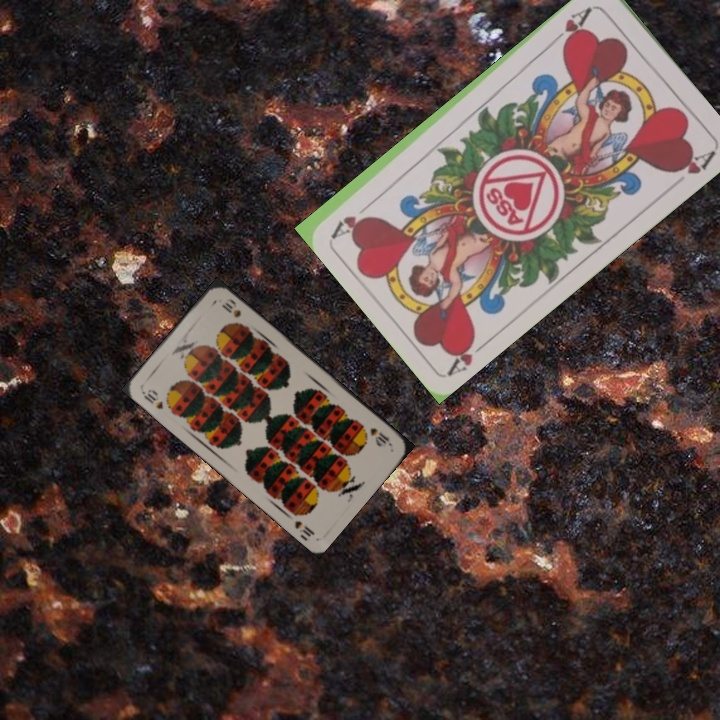HA: (444, 330, 494, 378), (548, 2, 597, 49)
S10: (138, 385, 166, 412), (366, 423, 394, 449)
